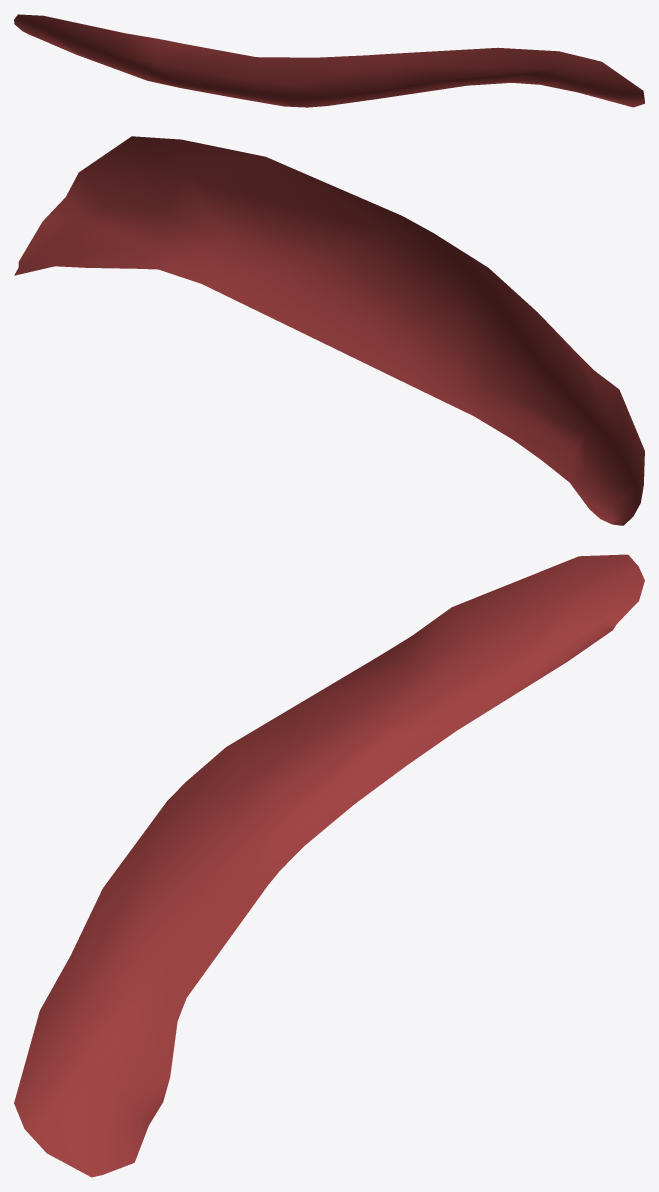
File: pectoralis-major-muscle-or.glb
The picture shows the model from 3 angles, top to bottom: view 1: azimuth 30°, elevation 25°; view 2: azimuth 150°, elevation 25°; view 3: azimuth 270°, elevation 25°; orthographic projection. The views are drawn at different scales.
Visible parts, largest first — view 1: Pectoralis major muscle.or; view 2: Pectoralis major muscle.or; view 3: Pectoralis major muscle.or.
Boxes of the visible parts, x1=… form: Pectoralis major muscle.or: x1=14, y1=14, x2=644, y2=107; Pectoralis major muscle.or: x1=14, y1=136, x2=644, y2=525; Pectoralis major muscle.or: x1=14, y1=554, x2=644, y2=1177.
Size of the model in its own units: 0.0656 by 0.0143 by 0.0405.
